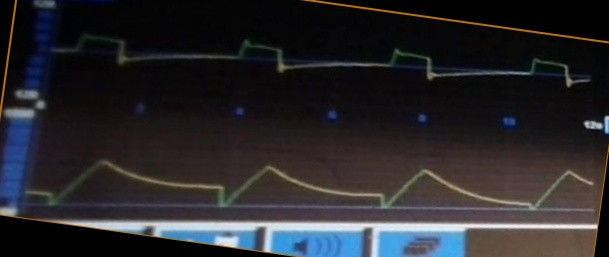Flow: (56, 32, 589, 102)
Leakage Volume: (33, 144, 589, 217)
